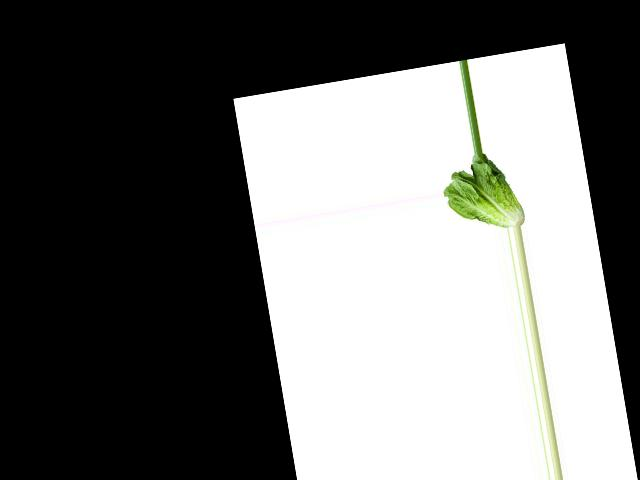lettuce: (437, 149, 526, 236)
